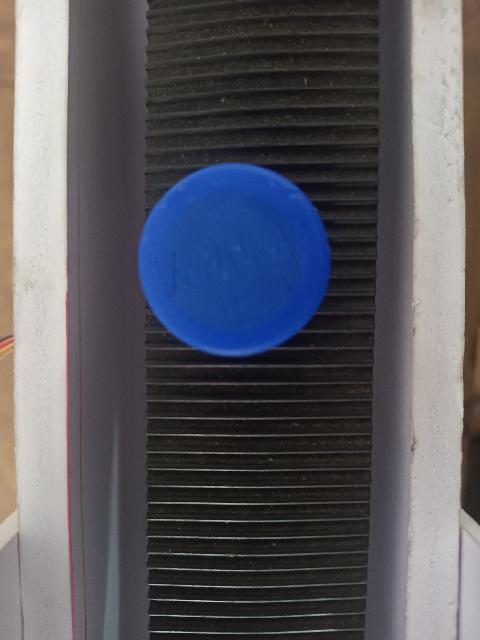bottlecap: (138, 156, 332, 364)
